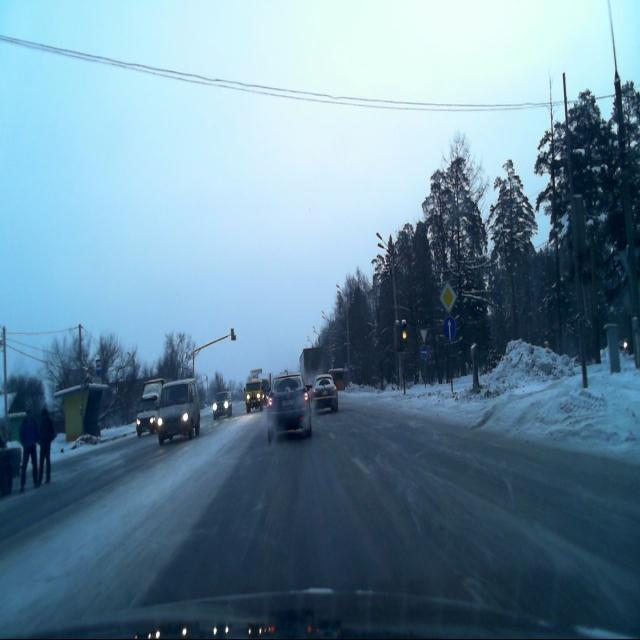road sign: (439, 283, 456, 313), (419, 327, 428, 345)
